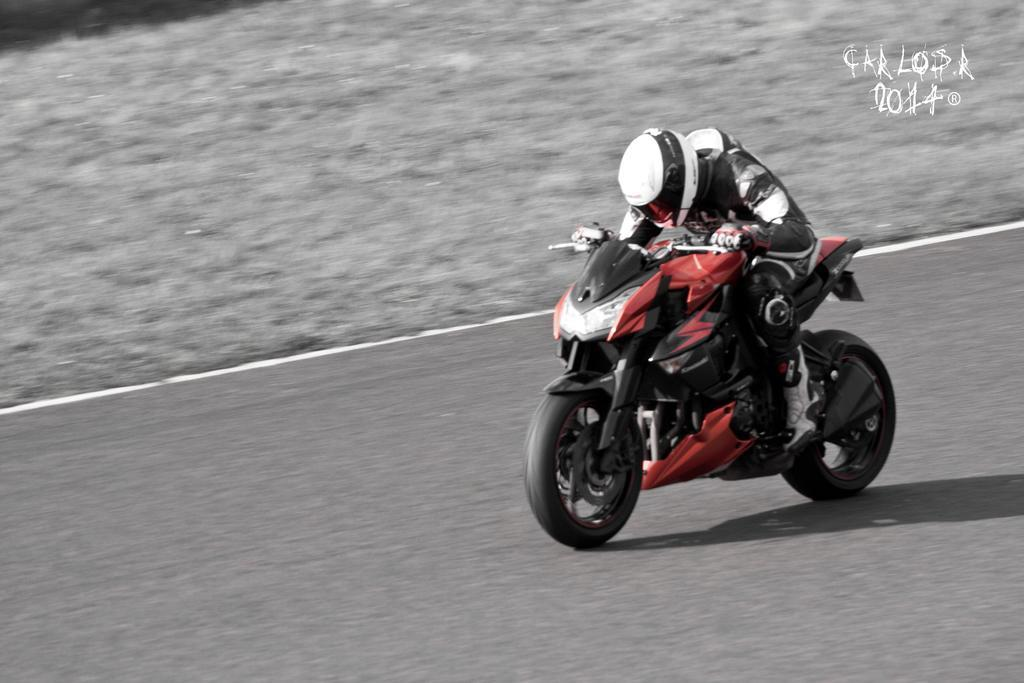helmet: (617, 127, 699, 231)
